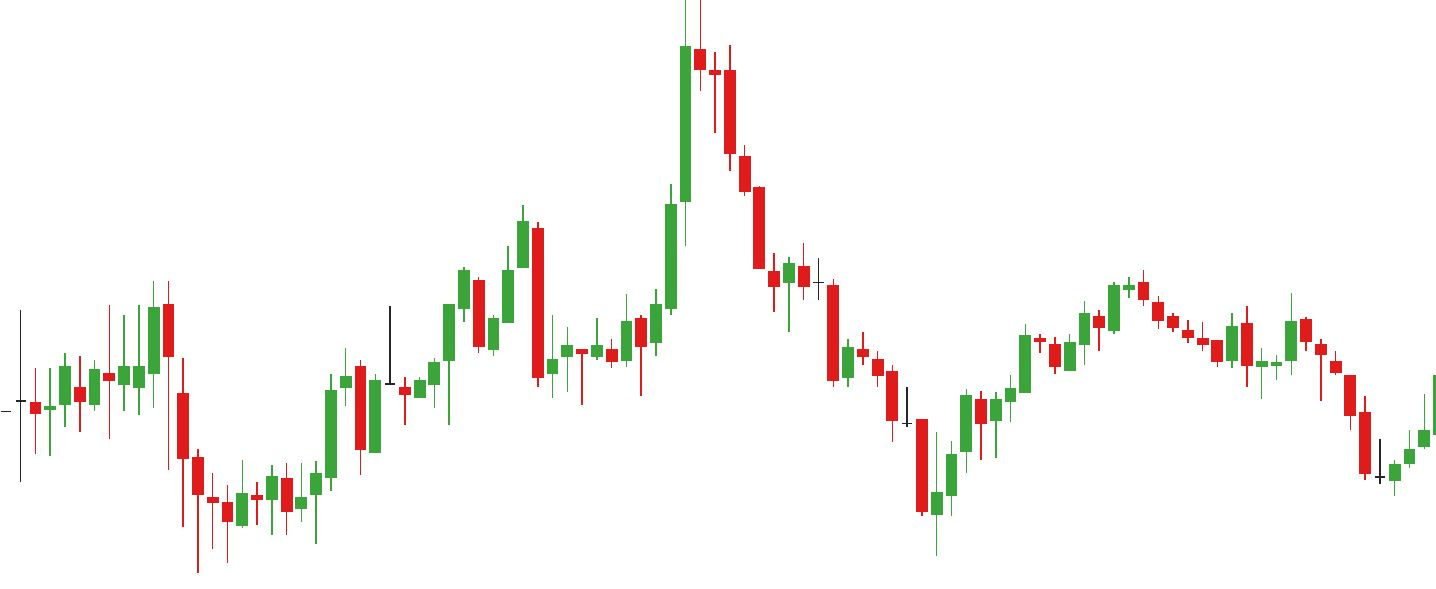buy: (472, 266, 575, 402)
